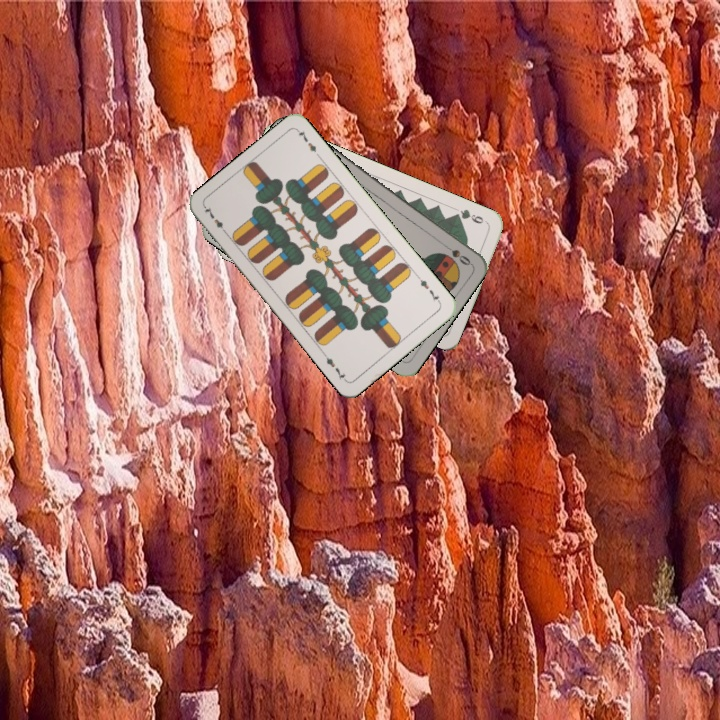E7: (200, 202, 230, 237), (413, 272, 443, 306)
G9: (450, 205, 490, 227)
SO: (438, 239, 473, 268)
